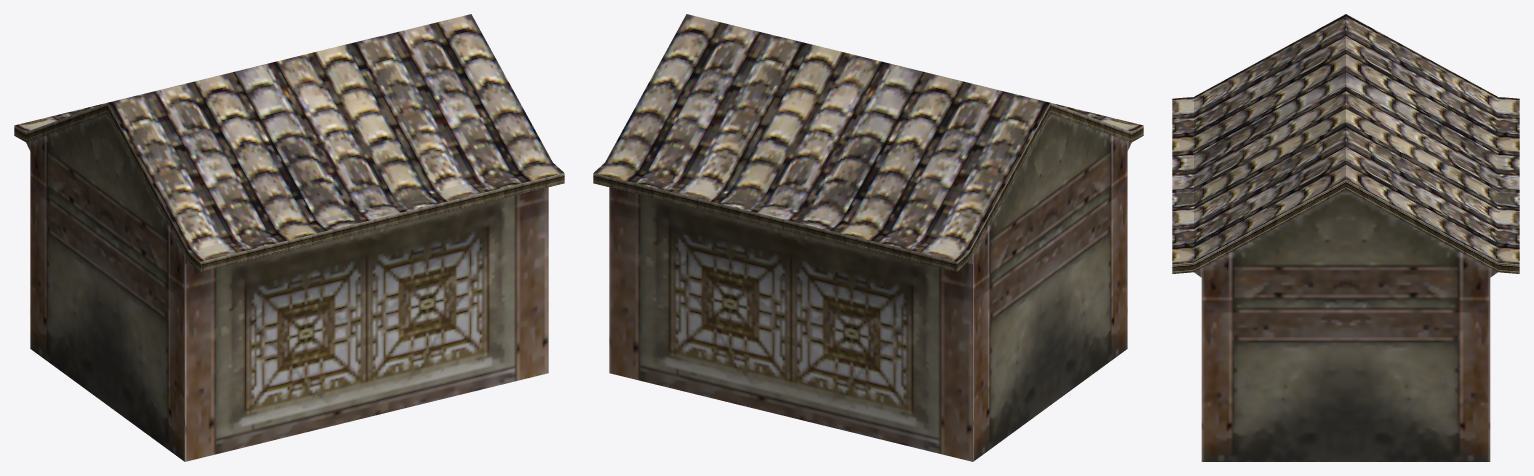
The model's file is auction_square03.FBX.
The picture shows the model from 3 angles, left to right: view 1: azimuth 30°, elevation 25°; view 2: azimuth 150°, elevation 25°; view 3: azimuth 270°, elevation 25°; orthographic projection. The views are drawn at different scales.
Visible parts, largest first — view 1: auction_house03; view 2: auction_house03; view 3: auction_house03.
Boxes of the visible parts, x1=… form: auction_house03: x1=14, y1=14, x2=564, y2=461; auction_house03: x1=593, y1=14, x2=1143, y2=461; auction_house03: x1=1172, y1=14, x2=1519, y2=461.
Size of the model in its own units: 328 by 261 by 291.
4 materials, 4 textured.
